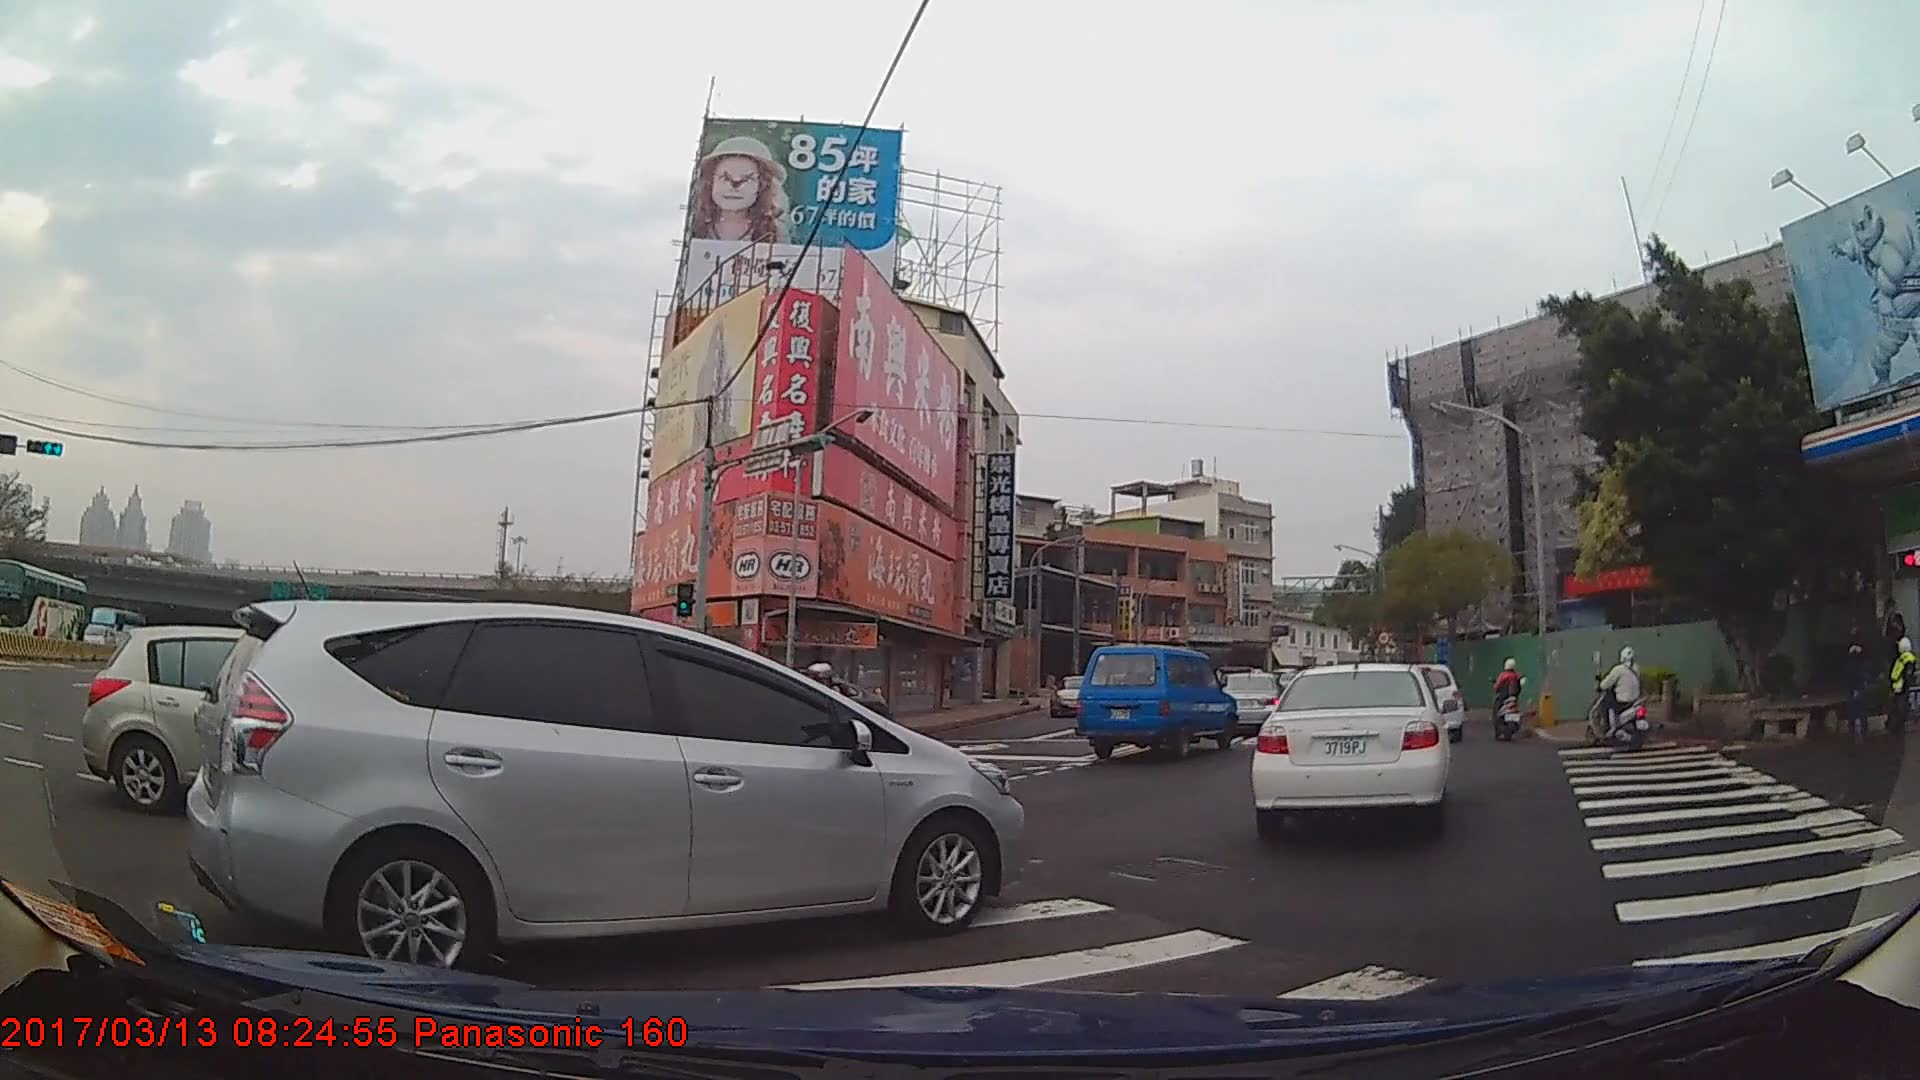pedestrian: (1833, 617, 1875, 743), (1864, 596, 1910, 696)
rider: (1587, 645, 1650, 749), (1490, 659, 1526, 742)
vehicle: (184, 598, 1027, 981), (80, 623, 417, 813), (1249, 662, 1449, 839), (1072, 646, 1233, 762), (0, 560, 83, 655), (1207, 671, 1280, 742)
